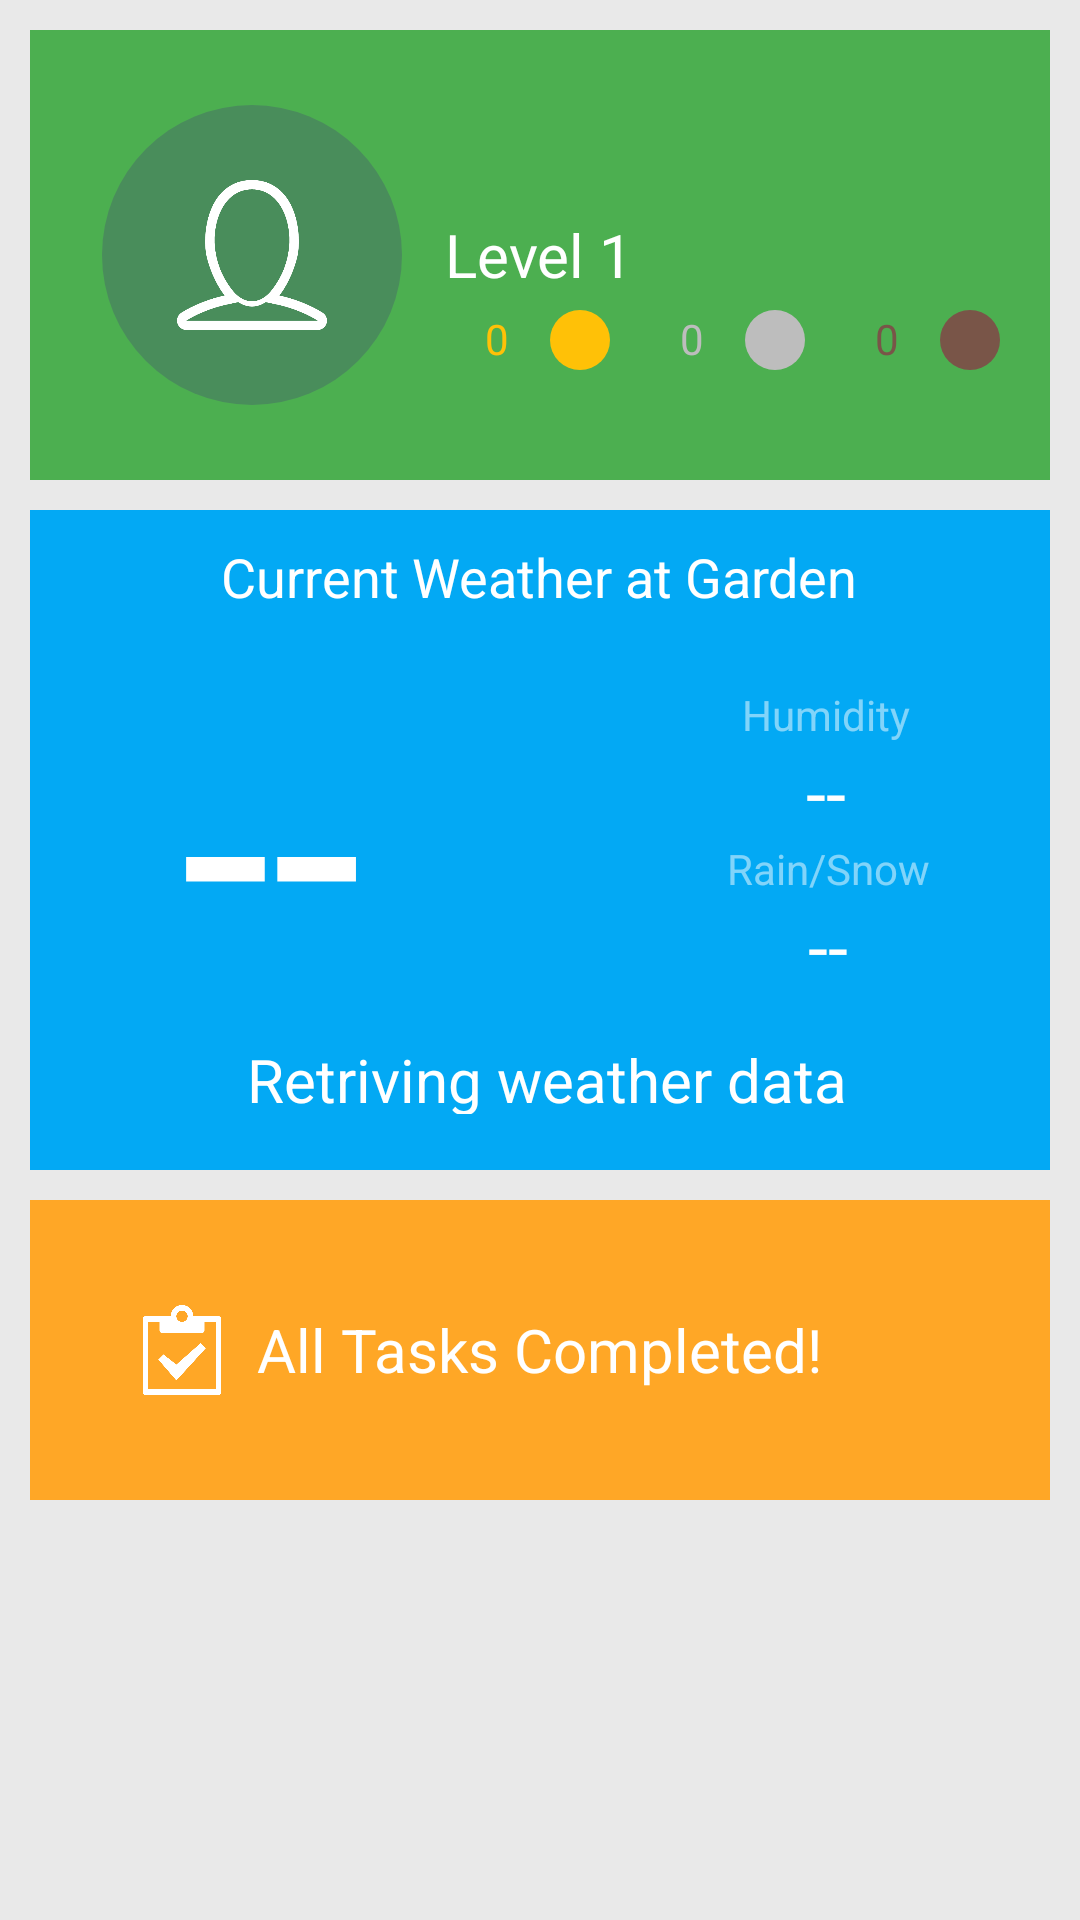

Locate icon controls on the screen. Image size 1080px x 1920px, boxes as (x1, y1, x2, y2).
clipboard: (143, 1305, 221, 1395)
user: (102, 105, 402, 405)
